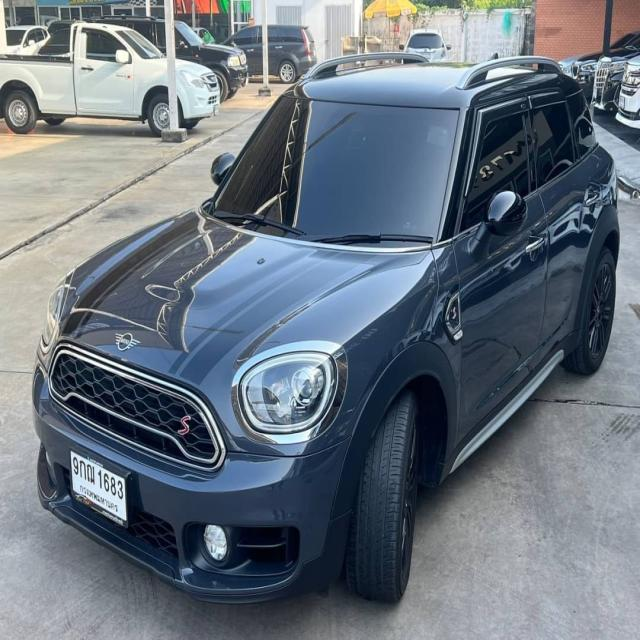license_plate: (68, 444, 135, 530)
